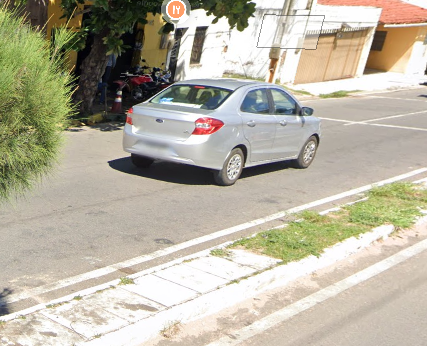car: (120, 70, 328, 189)
